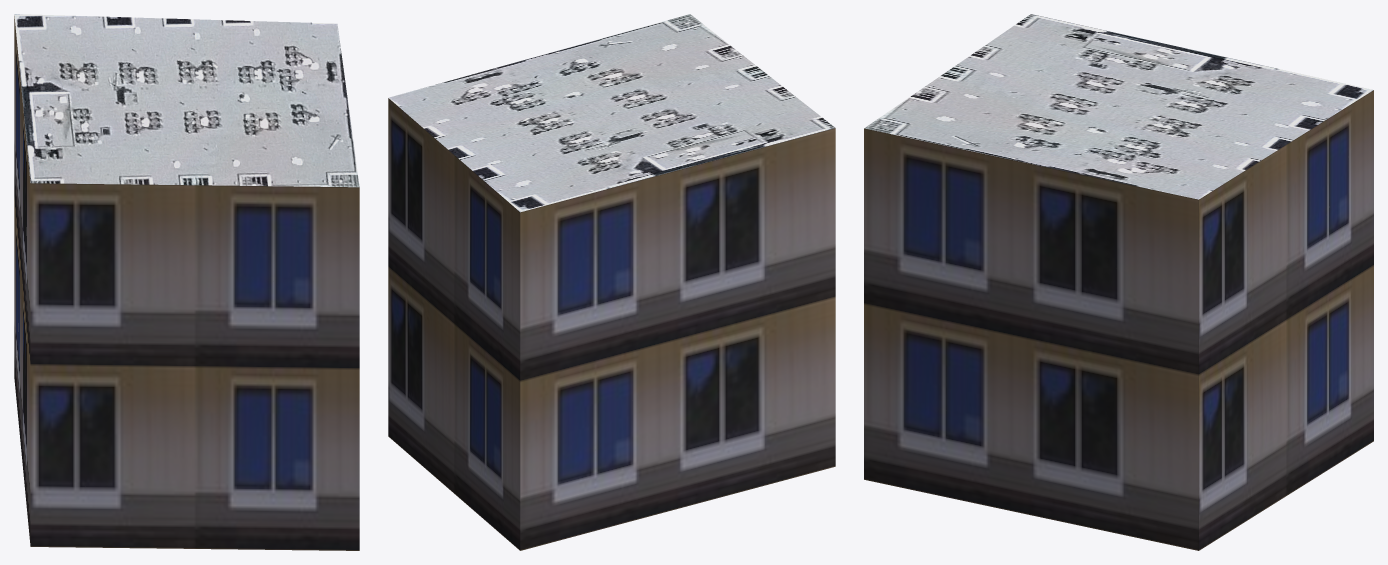
File: ResTex__547.fbx
3 views of the same model, side by side, from view 1: azimuth 30°, elevation 25°; view 2: azimuth 150°, elevation 25°; view 3: azimuth 270°, elevation 25° (orthographic). The views are drawn at different scales.
Visible parts, largest first — view 1: CityEngineMaterial_5_m, CityEngineMaterial_m; view 2: CityEngineMaterial_5_m, CityEngineMaterial_m; view 3: CityEngineMaterial_5_m, CityEngineMaterial_m.
Part boxes in pixels (x1,y1,x2,y2): CityEngineMaterial_5_m: (14, 16, 359, 550); CityEngineMaterial_m: (14, 14, 359, 187); CityEngineMaterial_5_m: (388, 98, 835, 550); CityEngineMaterial_m: (388, 14, 835, 212); CityEngineMaterial_5_m: (864, 90, 1373, 550); CityEngineMaterial_m: (864, 14, 1373, 199).
Bounding box in the file's own units: 6.8 × 6 × 7.89.
2 materials, 2 textured.
